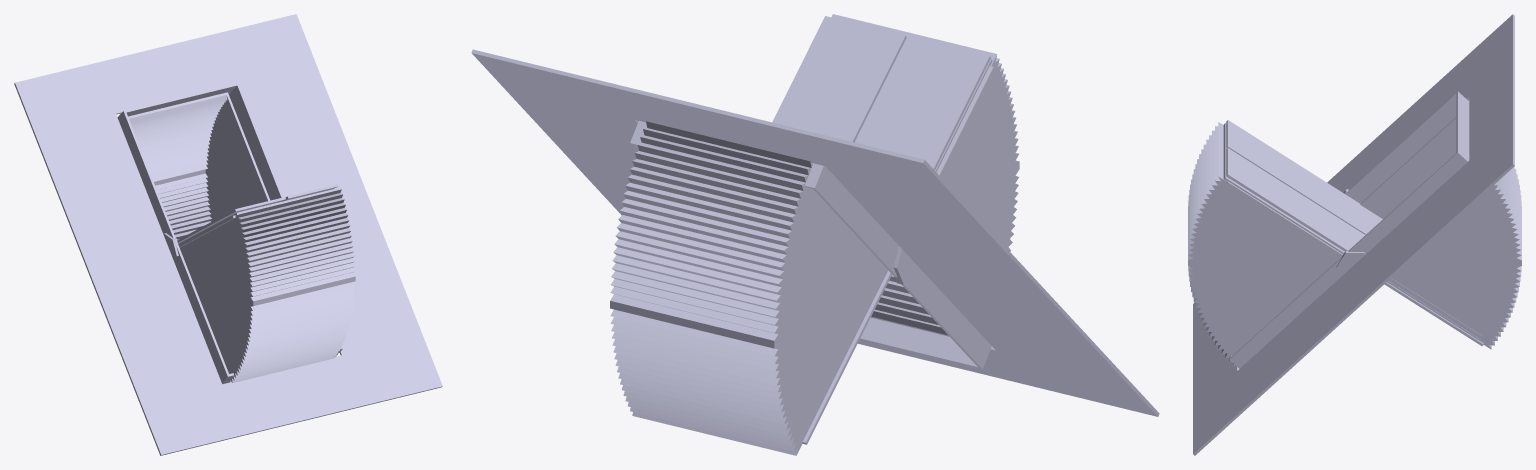
File: RoofDock_-35deg.glb
3 views of the same model, side by side, from view 1: azimuth 30°, elevation 25°; view 2: azimuth 150°, elevation 25°; view 3: azimuth 270°, elevation 25° (orthographic). The views are drawn at different scales.
Visible parts, largest first — view 1: copy_Body021, copy_Body023, copy_Body022, copy_Body, copy_LinkGroup004; view 2: copy_Body022, copy_Body021, copy_LinkGroup004, copy_Body023, copy_Body, copy_LinkGroup003; view 3: copy_Body021, copy_Body023, copy_Body022, copy_LinkGroup004, copy_Body, copy_LinkGroup003, copy_Body001.
Boxes of the visible parts, bbox=[...] form: copy_Body021: bbox=[14, 14, 442, 455]; copy_Body023: bbox=[180, 189, 355, 382]; copy_Body022: bbox=[128, 92, 270, 239]; copy_Body: bbox=[117, 83, 342, 384]; copy_LinkGroup004: bbox=[177, 184, 339, 244]; copy_Body022: bbox=[610, 121, 887, 455]; copy_Body021: bbox=[471, 49, 1159, 416]; copy_LinkGroup004: bbox=[772, 16, 992, 171]; copy_Body023: bbox=[831, 14, 1019, 336]; copy_Body: bbox=[630, 121, 991, 369]; copy_LinkGroup003: bbox=[802, 66, 994, 444]; copy_Body021: bbox=[1193, 14, 1514, 455]; copy_Body023: bbox=[1188, 122, 1340, 366]; copy_Body022: bbox=[1360, 117, 1521, 349]; copy_LinkGroup004: bbox=[1223, 120, 1482, 340]; copy_Body: bbox=[1229, 91, 1469, 368]; copy_LinkGroup003: bbox=[1226, 181, 1483, 346]; copy_Body001: bbox=[1336, 251, 1365, 275].
Bounding box in the file's own units: 1.68 × 1.52 × 1.57.
